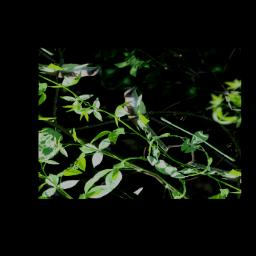Cuckoo: (100, 83, 200, 152)
